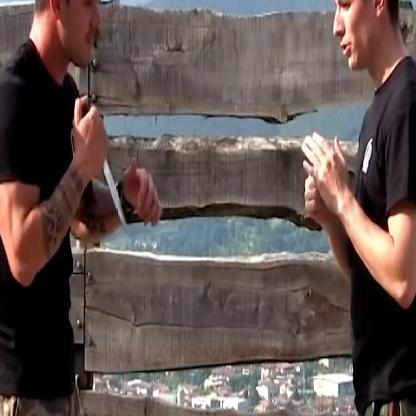knife: (74, 90, 130, 237)
